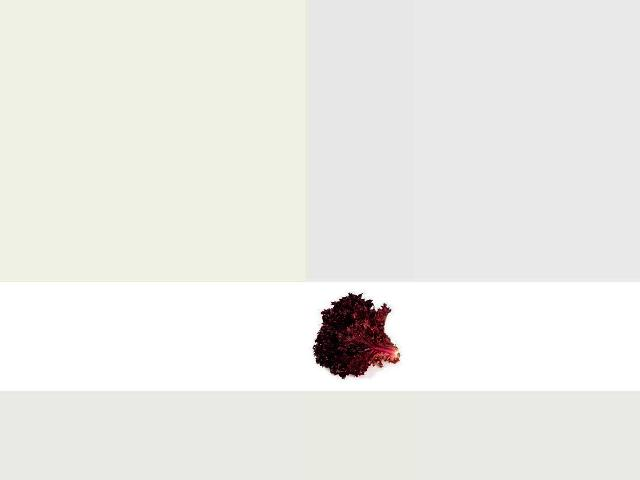lettuce: (308, 291, 408, 374)
